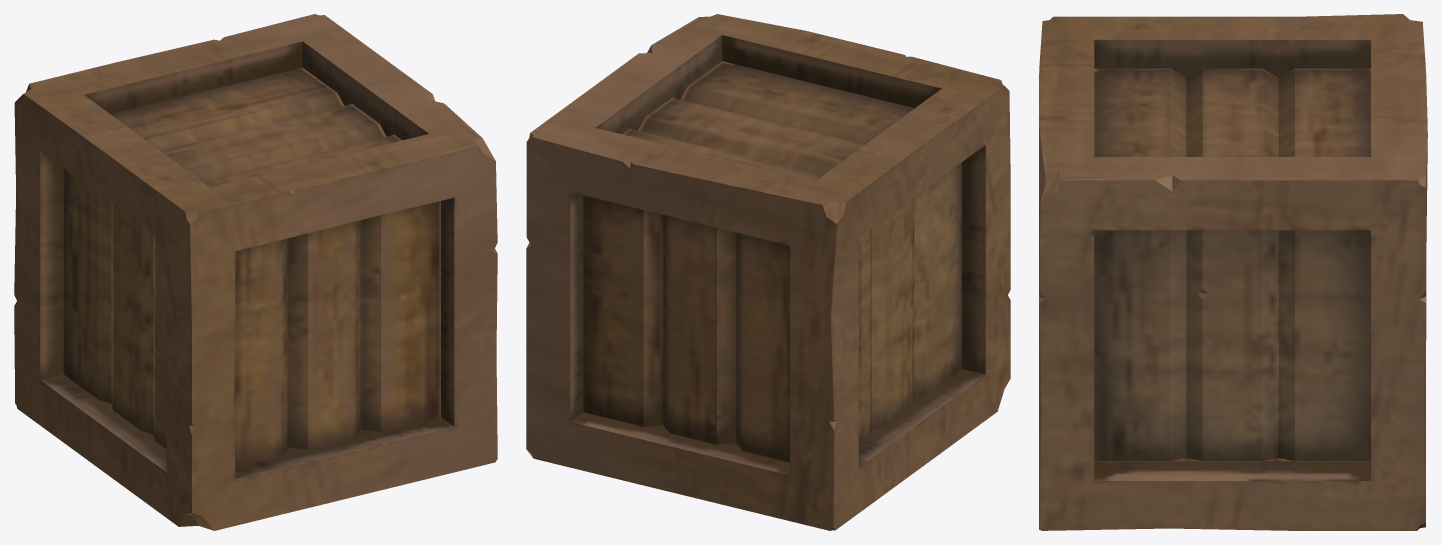
The model's file is surfaceShatterh.fbx.
The picture shows the model from 3 angles, left to right: view 1: azimuth 30°, elevation 25°; view 2: azimuth 150°, elevation 25°; view 3: azimuth 270°, elevation 25°; orthographic projection. The views are drawn at different scales.
Parts seen in each view (by area): view 1: shard8, shard6, shard21, shard3, shard7, shard47, shard53, shard29, shard17, shard16, shard43, shard15 (+19 smaller); view 2: shard1, shard3, shard4, shard13, shard18, shard35, shard19, shard21, shard44, shard7, shard9, shard2 (+19 smaller); view 3: shard2, shard10, shard12, shard24, shard26, shard1, shard21, shard33, shard54, shard19, shard45, shard37 (+15 smaller).
Part boxes in pixels (x1,y1,x2,y2): shard8: [193, 146, 481, 373]; shard6: [74, 220, 494, 530]; shard21: [84, 15, 432, 141]; shard3: [14, 94, 209, 395]; shard7: [14, 259, 124, 450]; shard47: [288, 221, 361, 372]; shard53: [361, 213, 440, 355]; shard29: [441, 153, 497, 425]; shard17: [40, 151, 111, 327]; shard16: [288, 278, 381, 462]; shard43: [234, 303, 288, 467]; shard15: [202, 372, 308, 530]; shard1: [526, 133, 643, 448]; shard3: [831, 83, 1010, 317]; shard4: [669, 216, 789, 464]; shard13: [914, 216, 1010, 405]; shard18: [583, 195, 716, 444]; shard35: [629, 161, 821, 245]; shard19: [638, 14, 805, 121]; shard21: [530, 53, 775, 169]; shard44: [534, 422, 730, 506]; shard7: [833, 277, 942, 530]; shard9: [717, 399, 834, 530]; shard2: [761, 79, 941, 201]; shard2: [1094, 14, 1402, 146]; shard10: [1266, 185, 1425, 376]; shard12: [1262, 291, 1370, 480]; shard24: [1170, 291, 1278, 480]; shard26: [1094, 378, 1419, 530]; shard1: [1279, 127, 1427, 525]; shard21: [1181, 79, 1421, 180]; shard33: [1094, 180, 1296, 293]; shard54: [1094, 294, 1186, 460]; shard19: [1039, 118, 1294, 229]; shard45: [1039, 303, 1094, 480]; shard37: [1186, 68, 1278, 155].
Size of the model in its own units: 138 by 137 by 137.
1 material, 1 textured.
